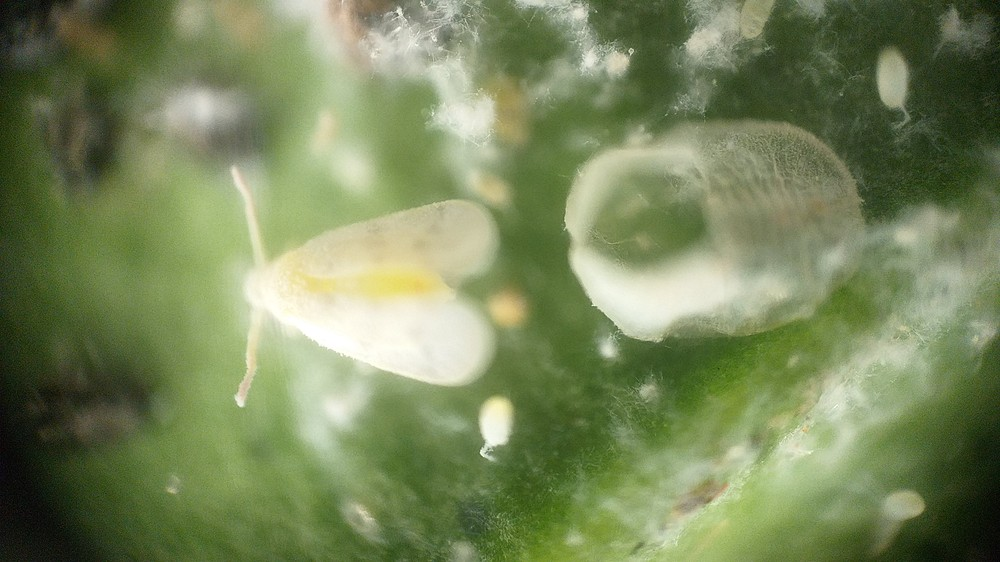Mosca Blanca: (196, 146, 524, 434)
